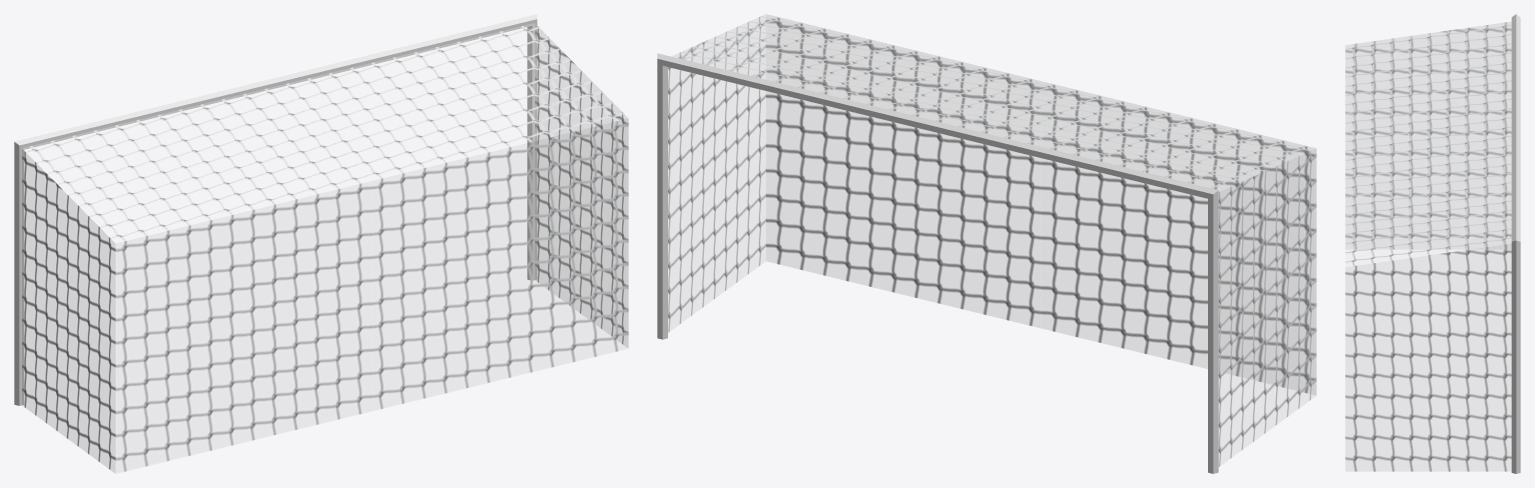
File: equipment_0009_goal.glb
3 views of the same model, side by side, from view 1: azimuth 30°, elevation 25°; view 2: azimuth 150°, elevation 25°; view 3: azimuth 270°, elevation 25° (orthographic). The views are drawn at different scales.
Visible parts, largest first — view 1: goal; view 2: goal; view 3: goal.
Part boxes in pixels (x1=…): goal: x1=14, y1=14, x2=628, y2=473; goal: x1=657, y1=14, x2=1316, y2=473; goal: x1=1345, y1=14, x2=1520, y2=473.
Size of the model in its own units: 245 by 118 by 80.04.
2 materials, 1 textured.
